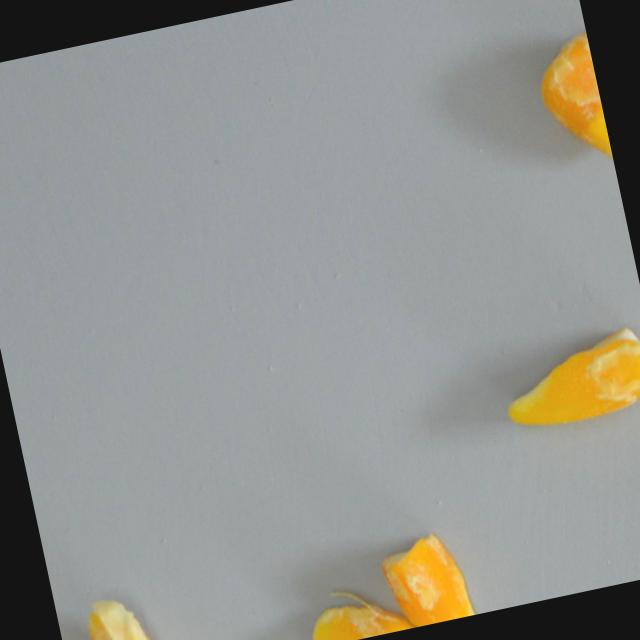pelicula: (524, 298, 637, 476), (366, 541, 493, 634), (522, 33, 611, 165), (298, 574, 412, 640), (60, 607, 205, 640)
